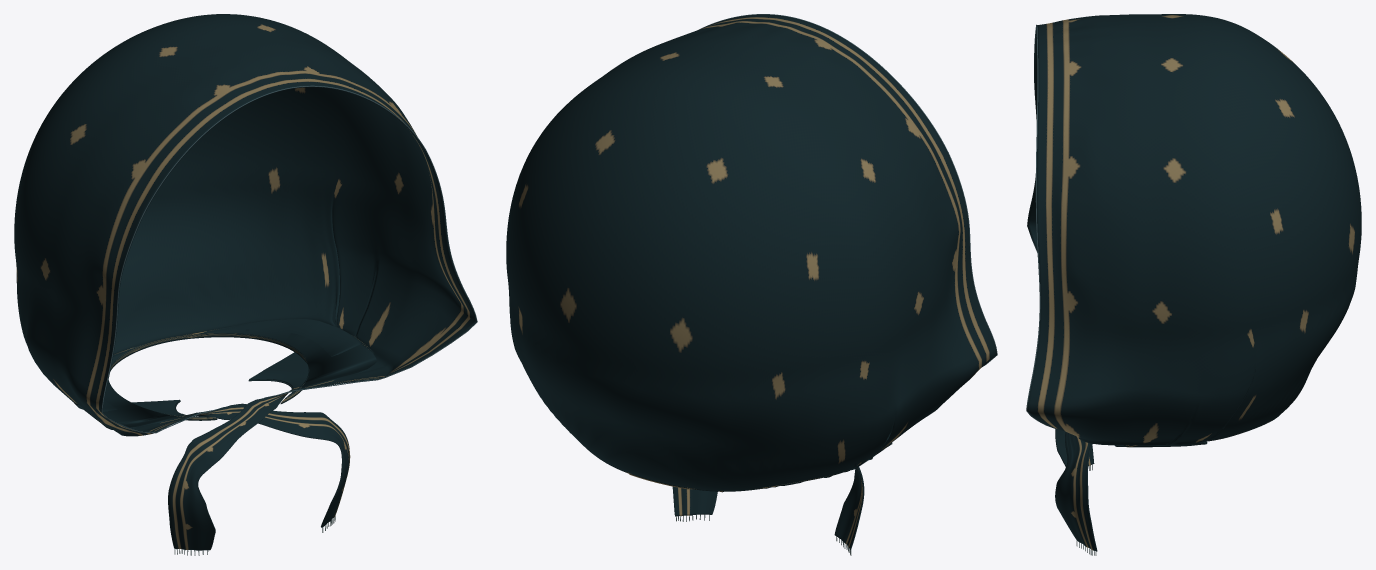
File: Feminine-Feminine-straight-sweatshirt-pashmina250-headgear-b7ba2e8c.glb
The picture shows the model from 3 angles, left to right: view 1: azimuth 30°, elevation 25°; view 2: azimuth 150°, elevation 25°; view 3: azimuth 270°, elevation 25°; orthographic projection. The views are drawn at different scales.
Parts seen in each view (by area): view 1: 226 headgear / Headwear / continuous woven pashmina239, 226 headgear / Headwear / face edge239; view 2: 226 headgear / Headwear / continuous woven pashmina239, 226 headgear / Headwear / face edge239; view 3: 226 headgear / Headwear / continuous woven pashmina239, 226 headgear / Headwear / face edge239.
Part boxes in pixels (bbox=[...]): 226 headgear / Headwear / continuous woven pashmina239: bbox=[14, 14, 476, 550]; 226 headgear / Headwear / face edge239: bbox=[101, 85, 477, 433]; 226 headgear / Headwear / continuous woven pashmina239: bbox=[506, 14, 996, 549]; 226 headgear / Headwear / face edge239: bbox=[699, 14, 997, 366]; 226 headgear / Headwear / continuous woven pashmina239: bbox=[1027, 14, 1361, 551]; 226 headgear / Headwear / face edge239: bbox=[1026, 24, 1057, 428].
Size of the model in its own units: 1.16 by 1.42 by 0.8889.
Materials: 3 (1 with a texture image).
